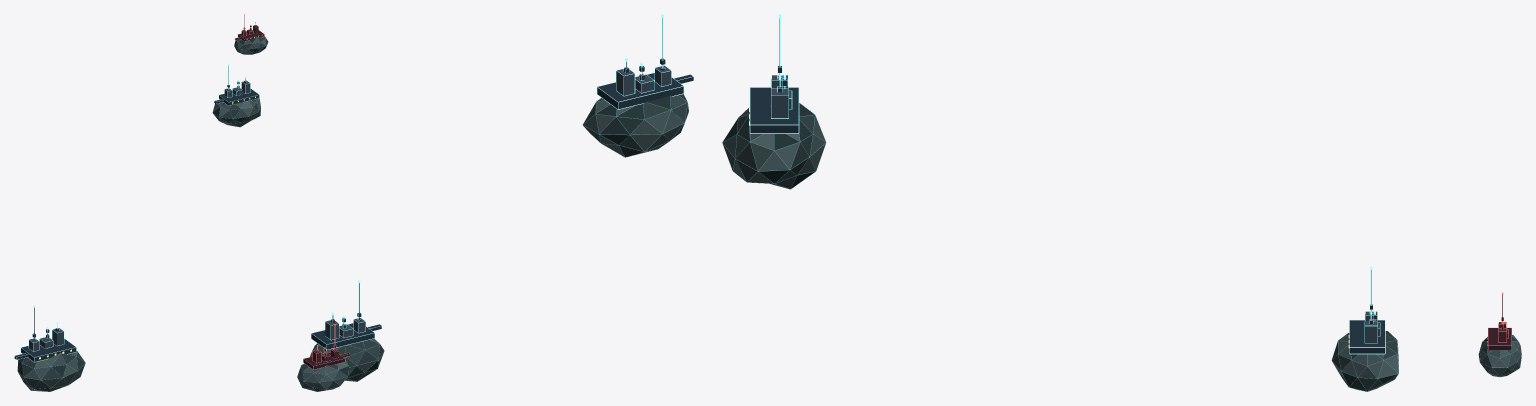
File: asteroid_outposts.glb
3 renders of one model, left to right at view 1: azimuth 30°, elevation 25°; view 2: azimuth 210°, elevation 25°; view 3: azimuth 270°, elevation 25°, orthographic. The views are drawn at different scales.
Visible parts, largest first — view 1: BlueMiningOutpost_A_ROOT | foundation, BlueMiningOutpost_B_ROOT | foundation, BlueMiningOutpost_A_ROOT | platform, RedListeningOutpost_ROOT | foundation, BlueMiningOutpost_A_ROOT | blue physical edge accents, BlueMiningOutpost_B_ROOT | platform, BlueMiningOutpost_A_ROOT | rock physical edge accents; view 2: BlueMiningOutpost_A_ROOT | foundation, BlueMiningOutpost_B_ROOT | foundation, BlueMiningOutpost_A_ROOT | platform, RedListeningOutpost_ROOT | foundation, BlueMiningOutpost_A_ROOT | blue physical edge accents, BlueMiningOutpost_A_ROOT | rock physical edge accents, BlueMiningOutpost_B_ROOT | platform, BlueMiningOutpost_A_ROOT | equipment block.002, BlueMiningOutpost_B_ROOT | blue physical edge accents; view 3: BlueMiningOutpost_A_ROOT | foundation, BlueMiningOutpost_B_ROOT | foundation, BlueMiningOutpost_A_ROOT | platform, RedListeningOutpost_ROOT | foundation, BlueMiningOutpost_A_ROOT | rock physical edge accents, BlueMiningOutpost_B_ROOT | platform, BlueMiningOutpost_A_ROOT | blue physical edge accents.
Part boxes in pixels (x1,y1,x2,y2): BlueMiningOutpost_A_ROOT | foundation: [17, 348, 85, 391]; BlueMiningOutpost_B_ROOT | foundation: [212, 98, 260, 127]; BlueMiningOutpost_A_ROOT | platform: [21, 339, 76, 361]; RedListeningOutpost_ROOT | foundation: [234, 36, 268, 54]; BlueMiningOutpost_A_ROOT | blue physical edge accents: [14, 324, 76, 362]; BlueMiningOutpost_B_ROOT | platform: [219, 89, 259, 105]; BlueMiningOutpost_A_ROOT | rock physical edge accents: [17, 352, 85, 391]; BlueMiningOutpost_A_ROOT | foundation: [583, 94, 688, 157]; BlueMiningOutpost_B_ROOT | foundation: [310, 339, 384, 381]; BlueMiningOutpost_A_ROOT | platform: [597, 73, 683, 109]; RedListeningOutpost_ROOT | foundation: [297, 360, 350, 391]; BlueMiningOutpost_A_ROOT | blue physical edge accents: [596, 18, 693, 109]; BlueMiningOutpost_A_ROOT | rock physical edge accents: [582, 95, 688, 157]; BlueMiningOutpost_B_ROOT | platform: [311, 323, 374, 349]; BlueMiningOutpost_A_ROOT | equipment block.002: [616, 69, 634, 95]; BlueMiningOutpost_B_ROOT | blue physical edge accents: [311, 283, 381, 349]; BlueMiningOutpost_A_ROOT | foundation: [722, 103, 825, 188]; BlueMiningOutpost_B_ROOT | foundation: [1332, 331, 1398, 391]; BlueMiningOutpost_A_ROOT | platform: [750, 87, 798, 133]; RedListeningOutpost_ROOT | foundation: [1479, 335, 1521, 376]; BlueMiningOutpost_A_ROOT | rock physical edge accents: [722, 103, 826, 189]; BlueMiningOutpost_B_ROOT | platform: [1349, 320, 1384, 353]; BlueMiningOutpost_A_ROOT | blue physical edge accents: [749, 18, 799, 133].
Bounding box in the file's own units: 34.69 × 9.81 × 29.29.
